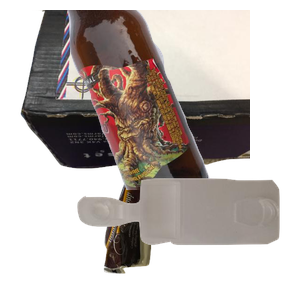cardboard: (18, 10, 258, 171)
glass: (65, 10, 300, 190)
plastic: (75, 176, 300, 300)
trash: (101, 157, 270, 300)
